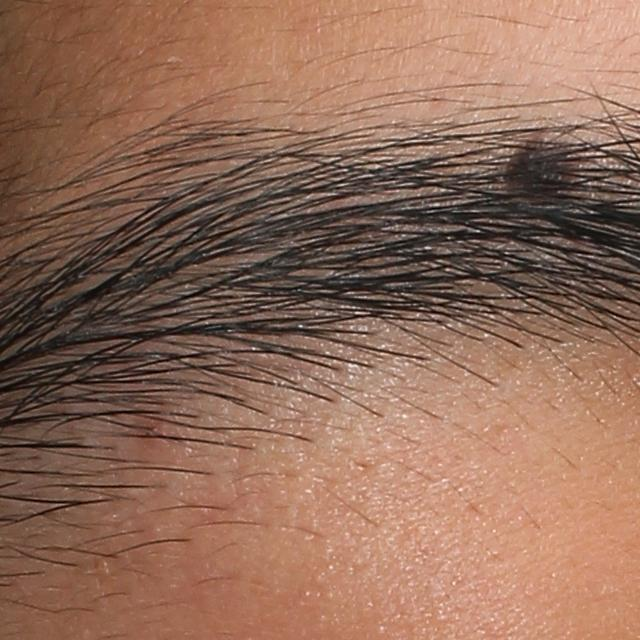nevus: (491, 130, 594, 199)
